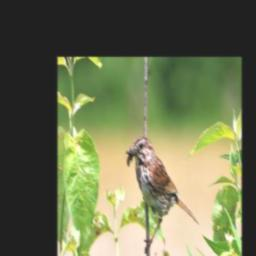Sparrow: (127, 136, 200, 253)
